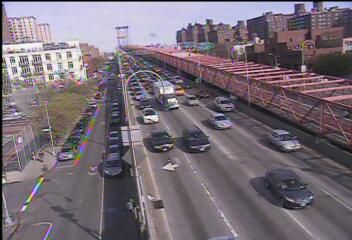neg: (286, 51, 322, 98), (206, 77, 239, 122), (300, 135, 332, 177), (203, 172, 234, 214), (64, 171, 94, 211), (62, 19, 91, 57), (14, 24, 42, 61), (161, 54, 188, 90), (158, 138, 184, 172), (77, 98, 103, 132), (130, 177, 156, 211), (250, 28, 275, 61), (124, 16, 146, 46), (260, 188, 282, 217), (18, 198, 35, 221), (259, 127, 275, 149)
pos: (34, 144, 48, 163)
